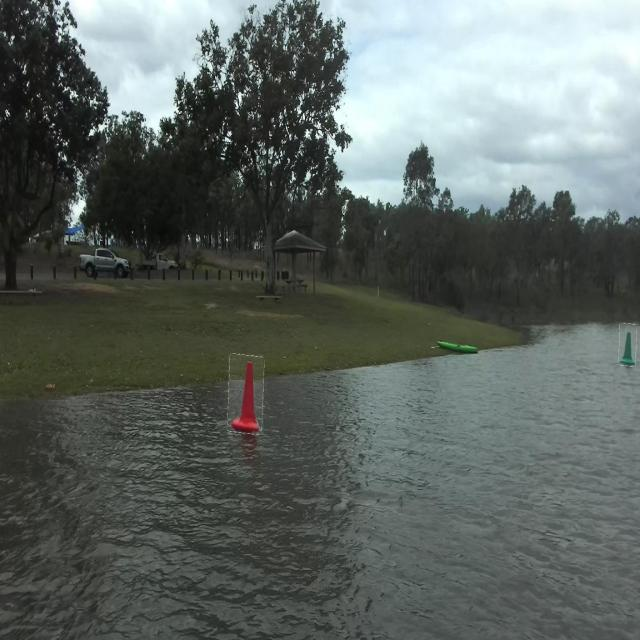Green_Buoy: (618, 322, 638, 369)
Red_Buoy: (232, 363, 262, 446)
